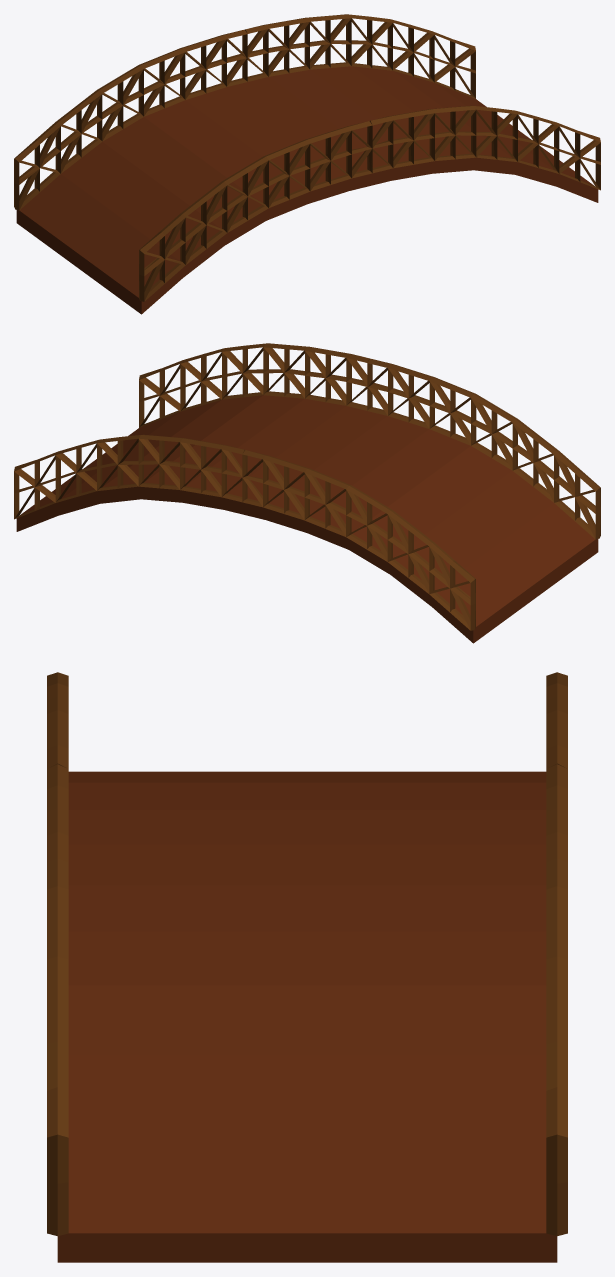
File: Bridge.fbx
3 views of the same model, one above another, from view 1: azimuth 30°, elevation 25°; view 2: azimuth 150°, elevation 25°; view 3: azimuth 270°, elevation 25° (orthographic). The views are drawn at different scales.
Visible parts, largest first — view 1: Cube, Cube.001; view 2: Cube, Cube.001; view 3: Cube, Cube.001.
Part boxes in pixels (bbox=[...]): Cube: bbox=[16, 66, 598, 314]; Cube.001: bbox=[14, 14, 600, 301]; Cube: bbox=[16, 395, 598, 643]; Cube.001: bbox=[14, 343, 600, 630]; Cube: bbox=[57, 771, 557, 1262]; Cube.001: bbox=[47, 672, 567, 1236].
Size of the model in its own units: 2222 by 635 by 1087.
